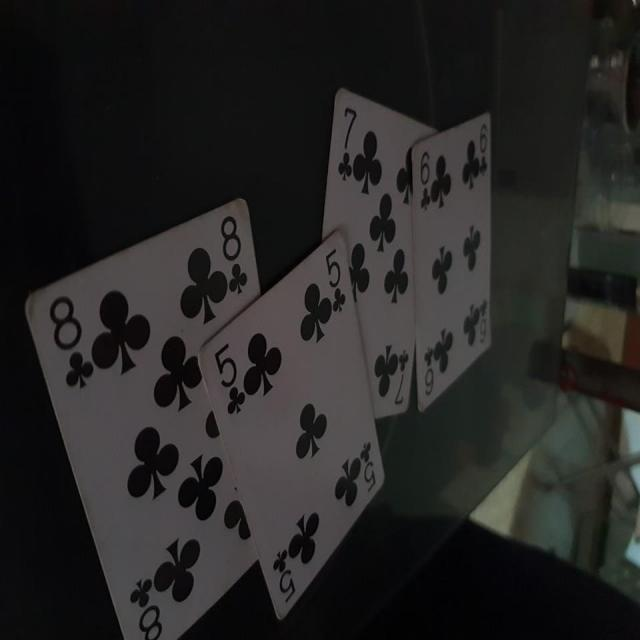5 Trefoils: (195, 232, 386, 621)
6 Trefoils: (411, 112, 494, 415)
7 Trefoils: (321, 87, 436, 418)
8 Trefoils: (26, 192, 263, 640)
